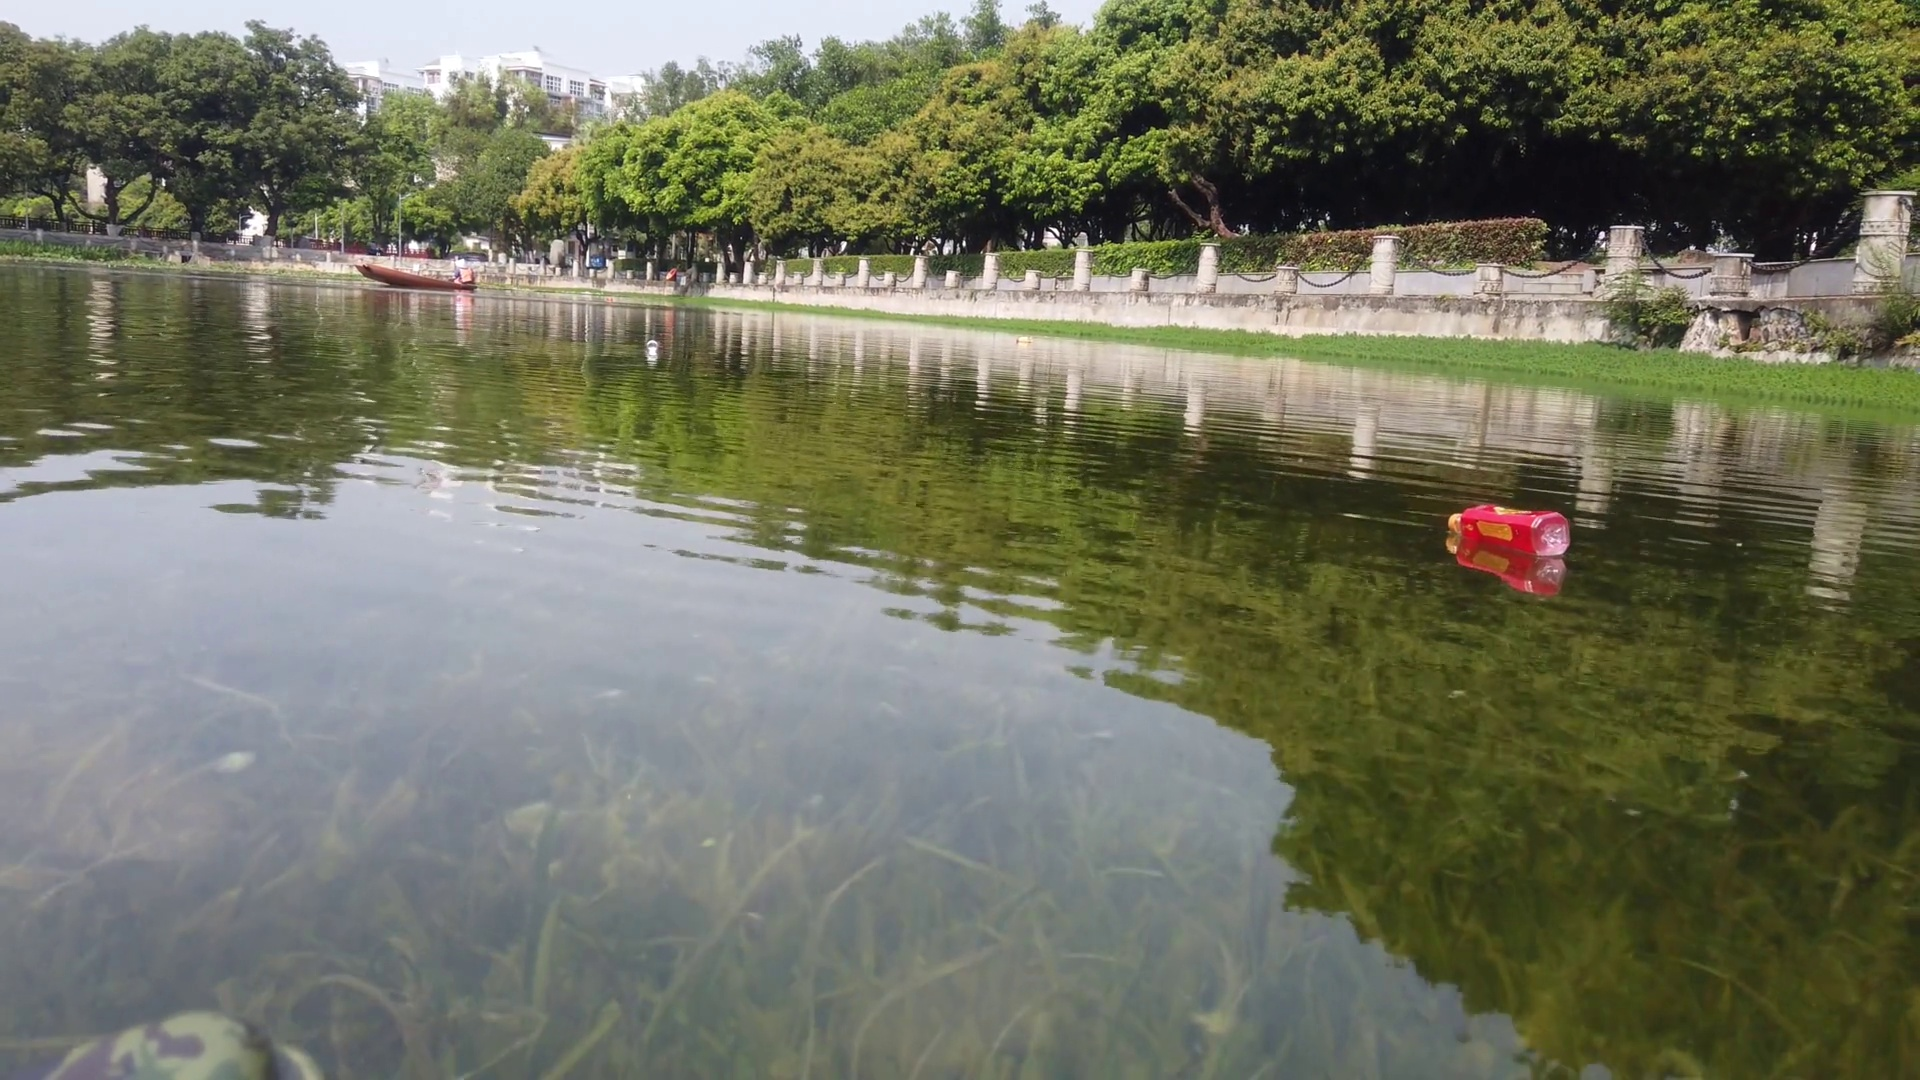bottle: (1443, 505, 1575, 556), (644, 334, 663, 353), (1018, 334, 1033, 343)
